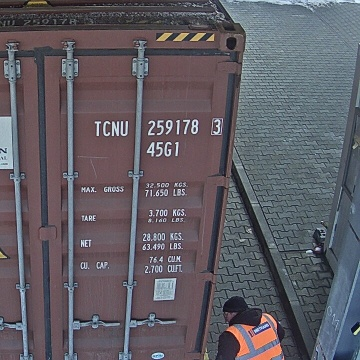serial_id: (95, 119, 221, 136)
